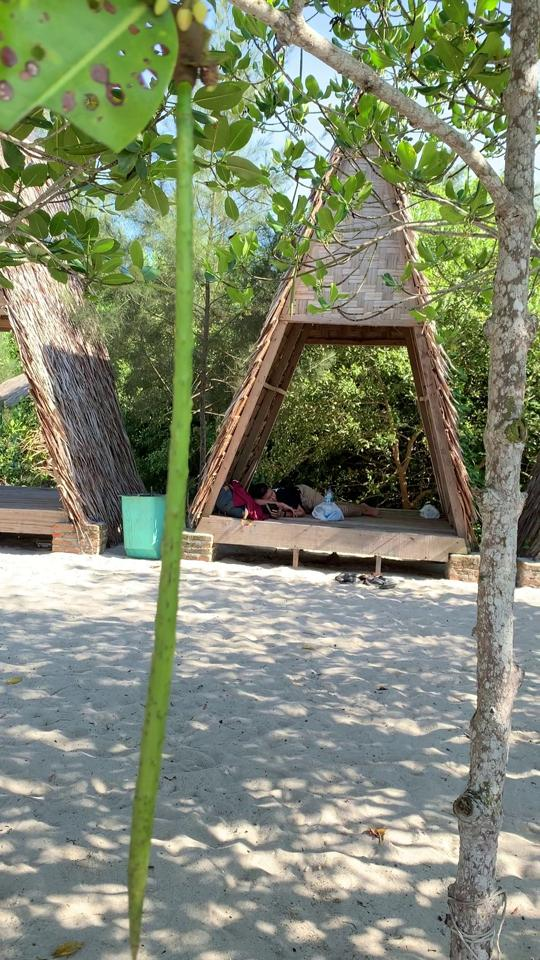mentah: (101, 6, 228, 955)
